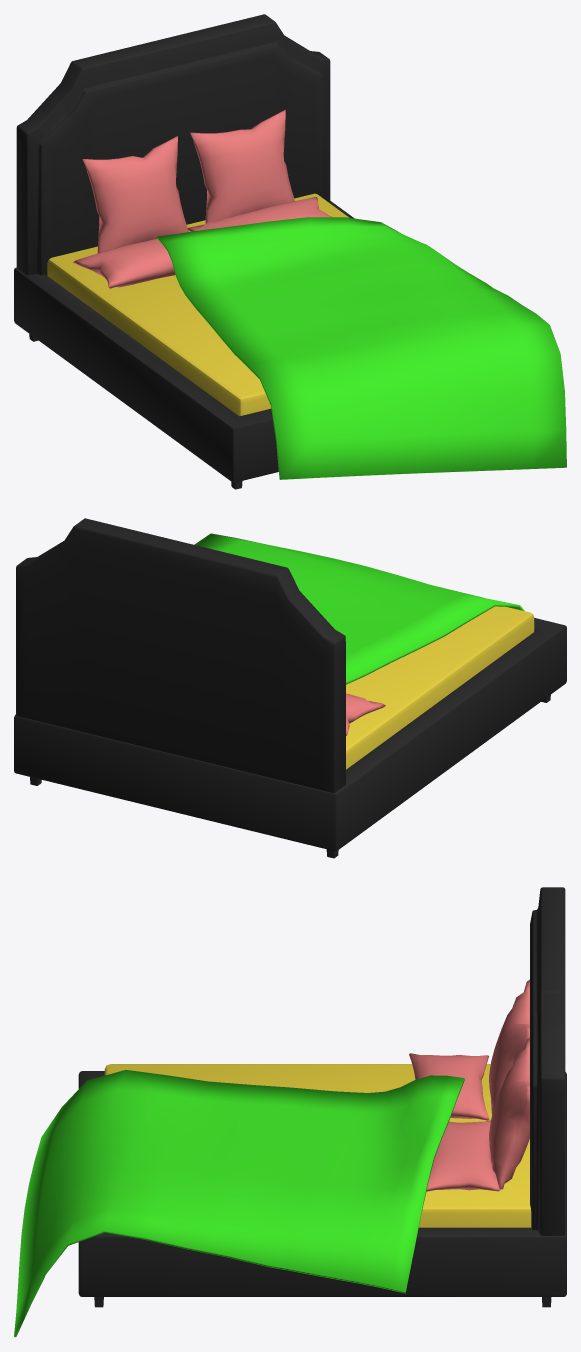
File: SM_lit.fbx
3 renders of one model, top to bottom at view 1: azimuth 30°, elevation 25°; view 2: azimuth 150°, elevation 25°; view 3: azimuth 270°, elevation 25°, orthographic. The views are drawn at different scales.
Parts seen in each view (by area): view 1: Plane.007, Cube.015, Cube.012, Cube.014, Plane.003, Plane.004, Plane.006, Plane.005; view 2: Cube.015, Cube.012, Plane.007, Cube.014, Plane.006; view 3: Plane.007, Cube.012, Cube.015, Cube.014, Plane.004, Plane.005, Plane.006, Plane.003.
Part boxes in pixels (x1,y1,x2,y2): Plane.007: (157, 217, 566, 479); Cube.015: (16, 14, 330, 275); Cube.012: (14, 201, 354, 482); Cube.014: (47, 193, 349, 416); Plane.003: (82, 136, 188, 253); Plane.004: (190, 109, 294, 223); Plane.006: (73, 239, 175, 288); Plane.005: (187, 197, 332, 231); Cube.015: (16, 518, 345, 793); Cube.012: (14, 618, 566, 850); Plane.007: (194, 533, 524, 684); Cube.014: (346, 606, 534, 769); Plane.006: (346, 693, 385, 735); Plane.007: (14, 1070, 464, 1337); Cube.012: (78, 1071, 566, 1296); Cube.015: (530, 887, 565, 1235); Cube.014: (104, 1064, 531, 1227); Plane.004: (489, 1038, 529, 1189); Plane.005: (426, 1120, 499, 1191); Plane.006: (409, 1053, 489, 1120); Plane.003: (489, 979, 529, 1115).
Size of the model in its own units: 531 by 410 by 647.
